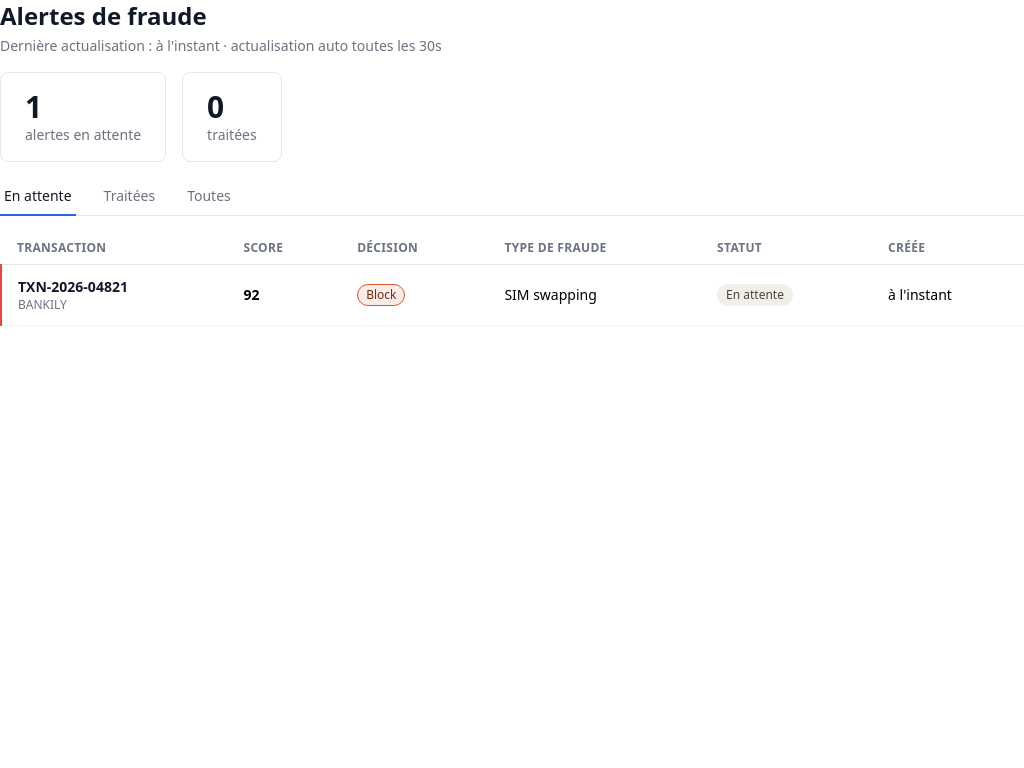
Scenario: AlertsPage — intégration AlertList + AlertDetailPanel › valider une alerte invalide le cache — la liste est réellement re-questionnée, pas juste fermée visuellement
Click the text "TXN-2026-04821".
click(73, 286)  # box x1=18 y1=277 x2=128 y2=296
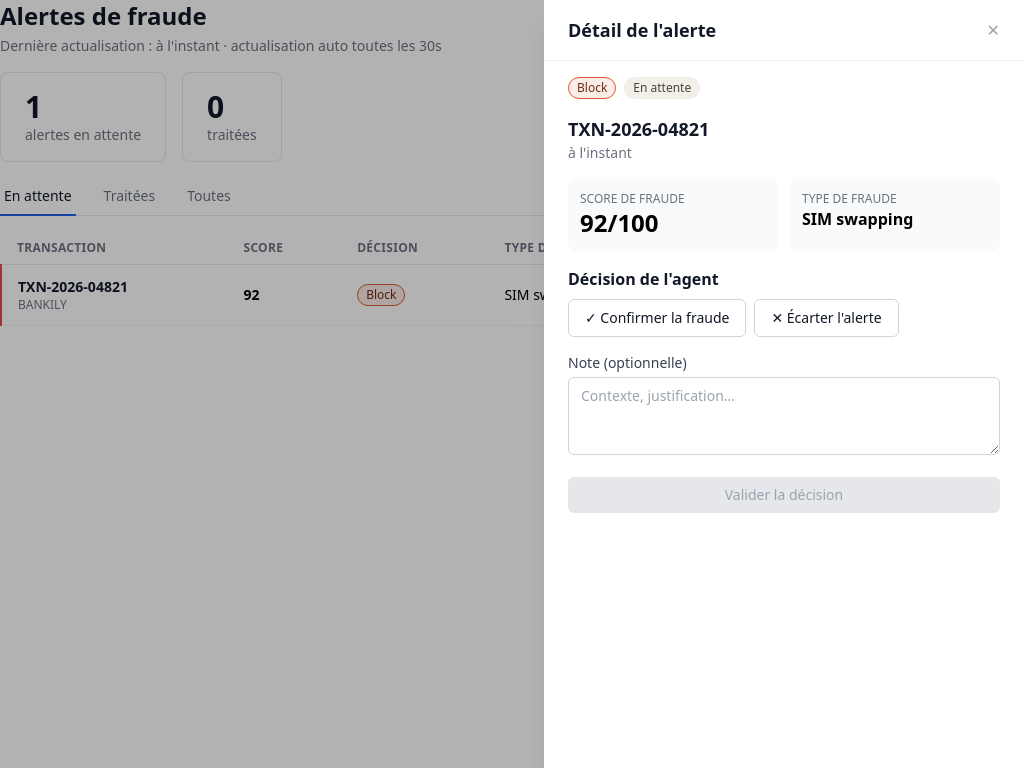
Click the button "✓ Confirmer la fraude".
click(657, 318)  # box x1=568 y1=299 x2=746 y2=337
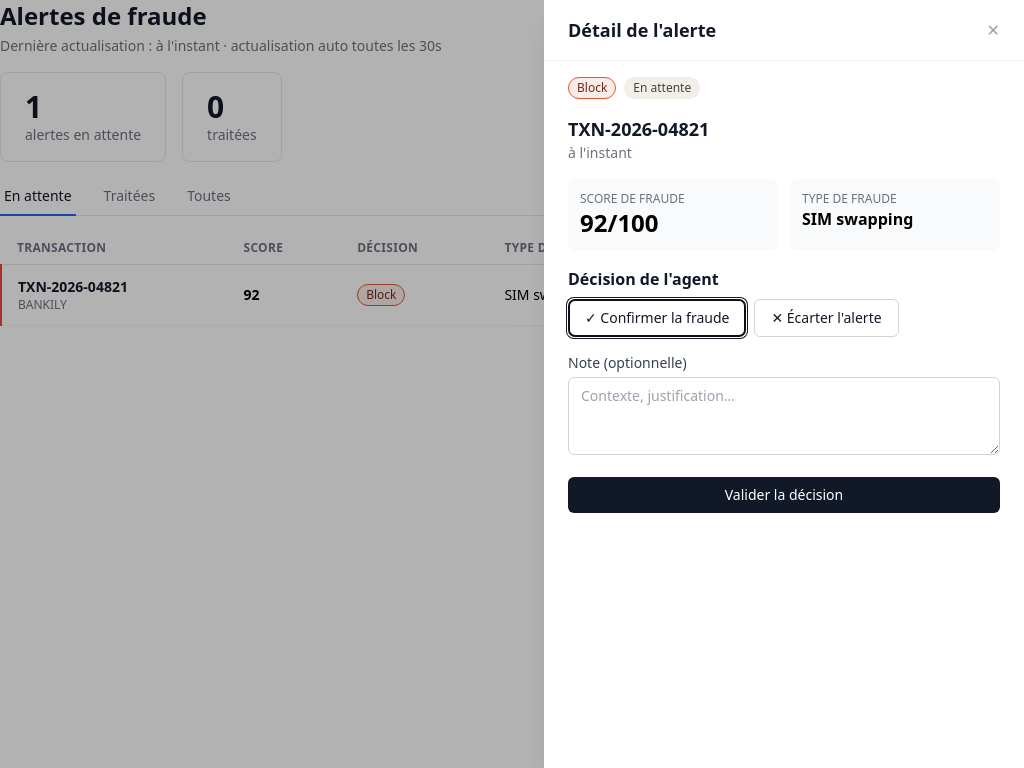
Click the button "Valider la décision".
click(784, 495)  # box x1=568 y1=477 x2=1000 y2=513
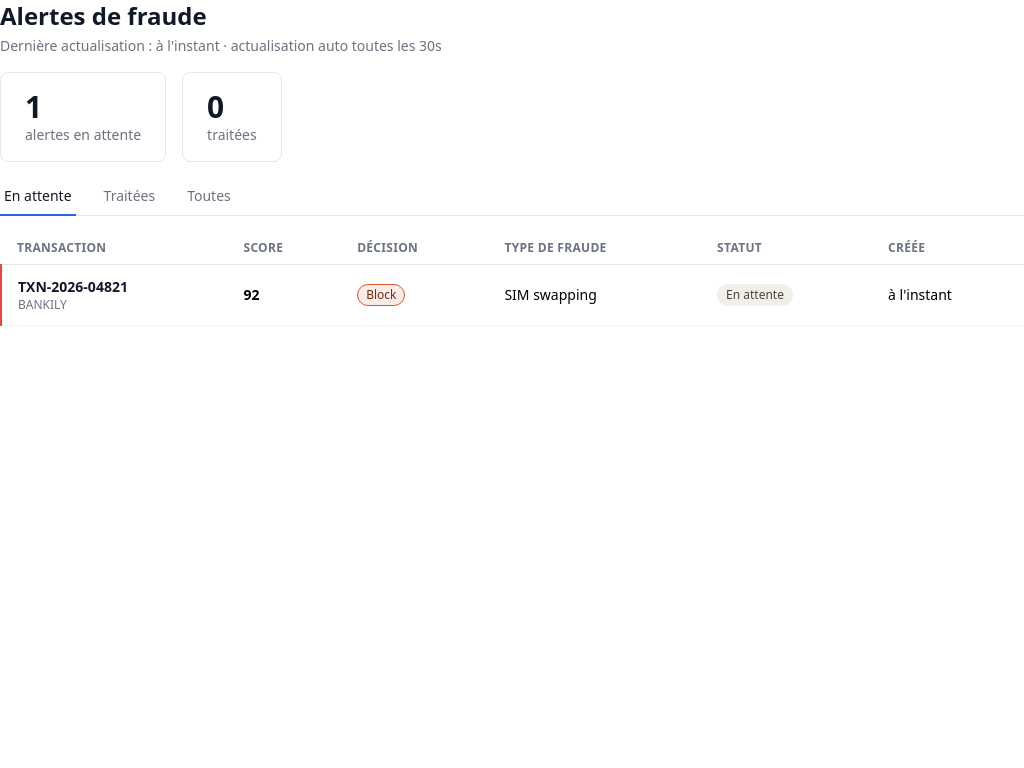
Result: the dialog is gone
